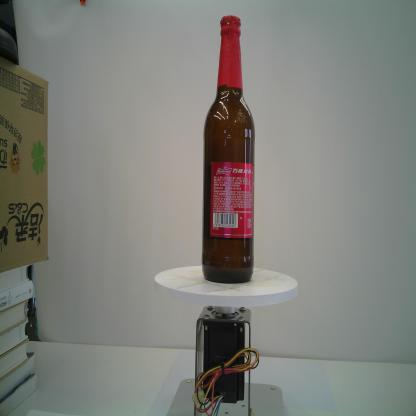Alcohol: (200, 14, 256, 286)
